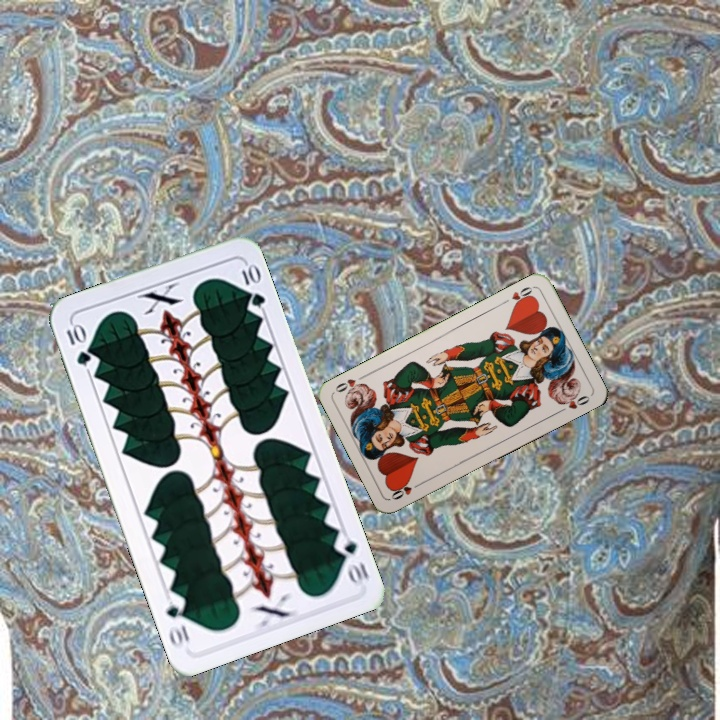G10: (330, 529, 372, 587), (62, 319, 94, 368)
HO: (498, 282, 536, 310), (387, 478, 425, 503)
